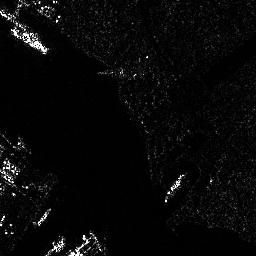ship: (10, 25, 49, 55), (164, 174, 184, 203), (36, 207, 52, 226)
